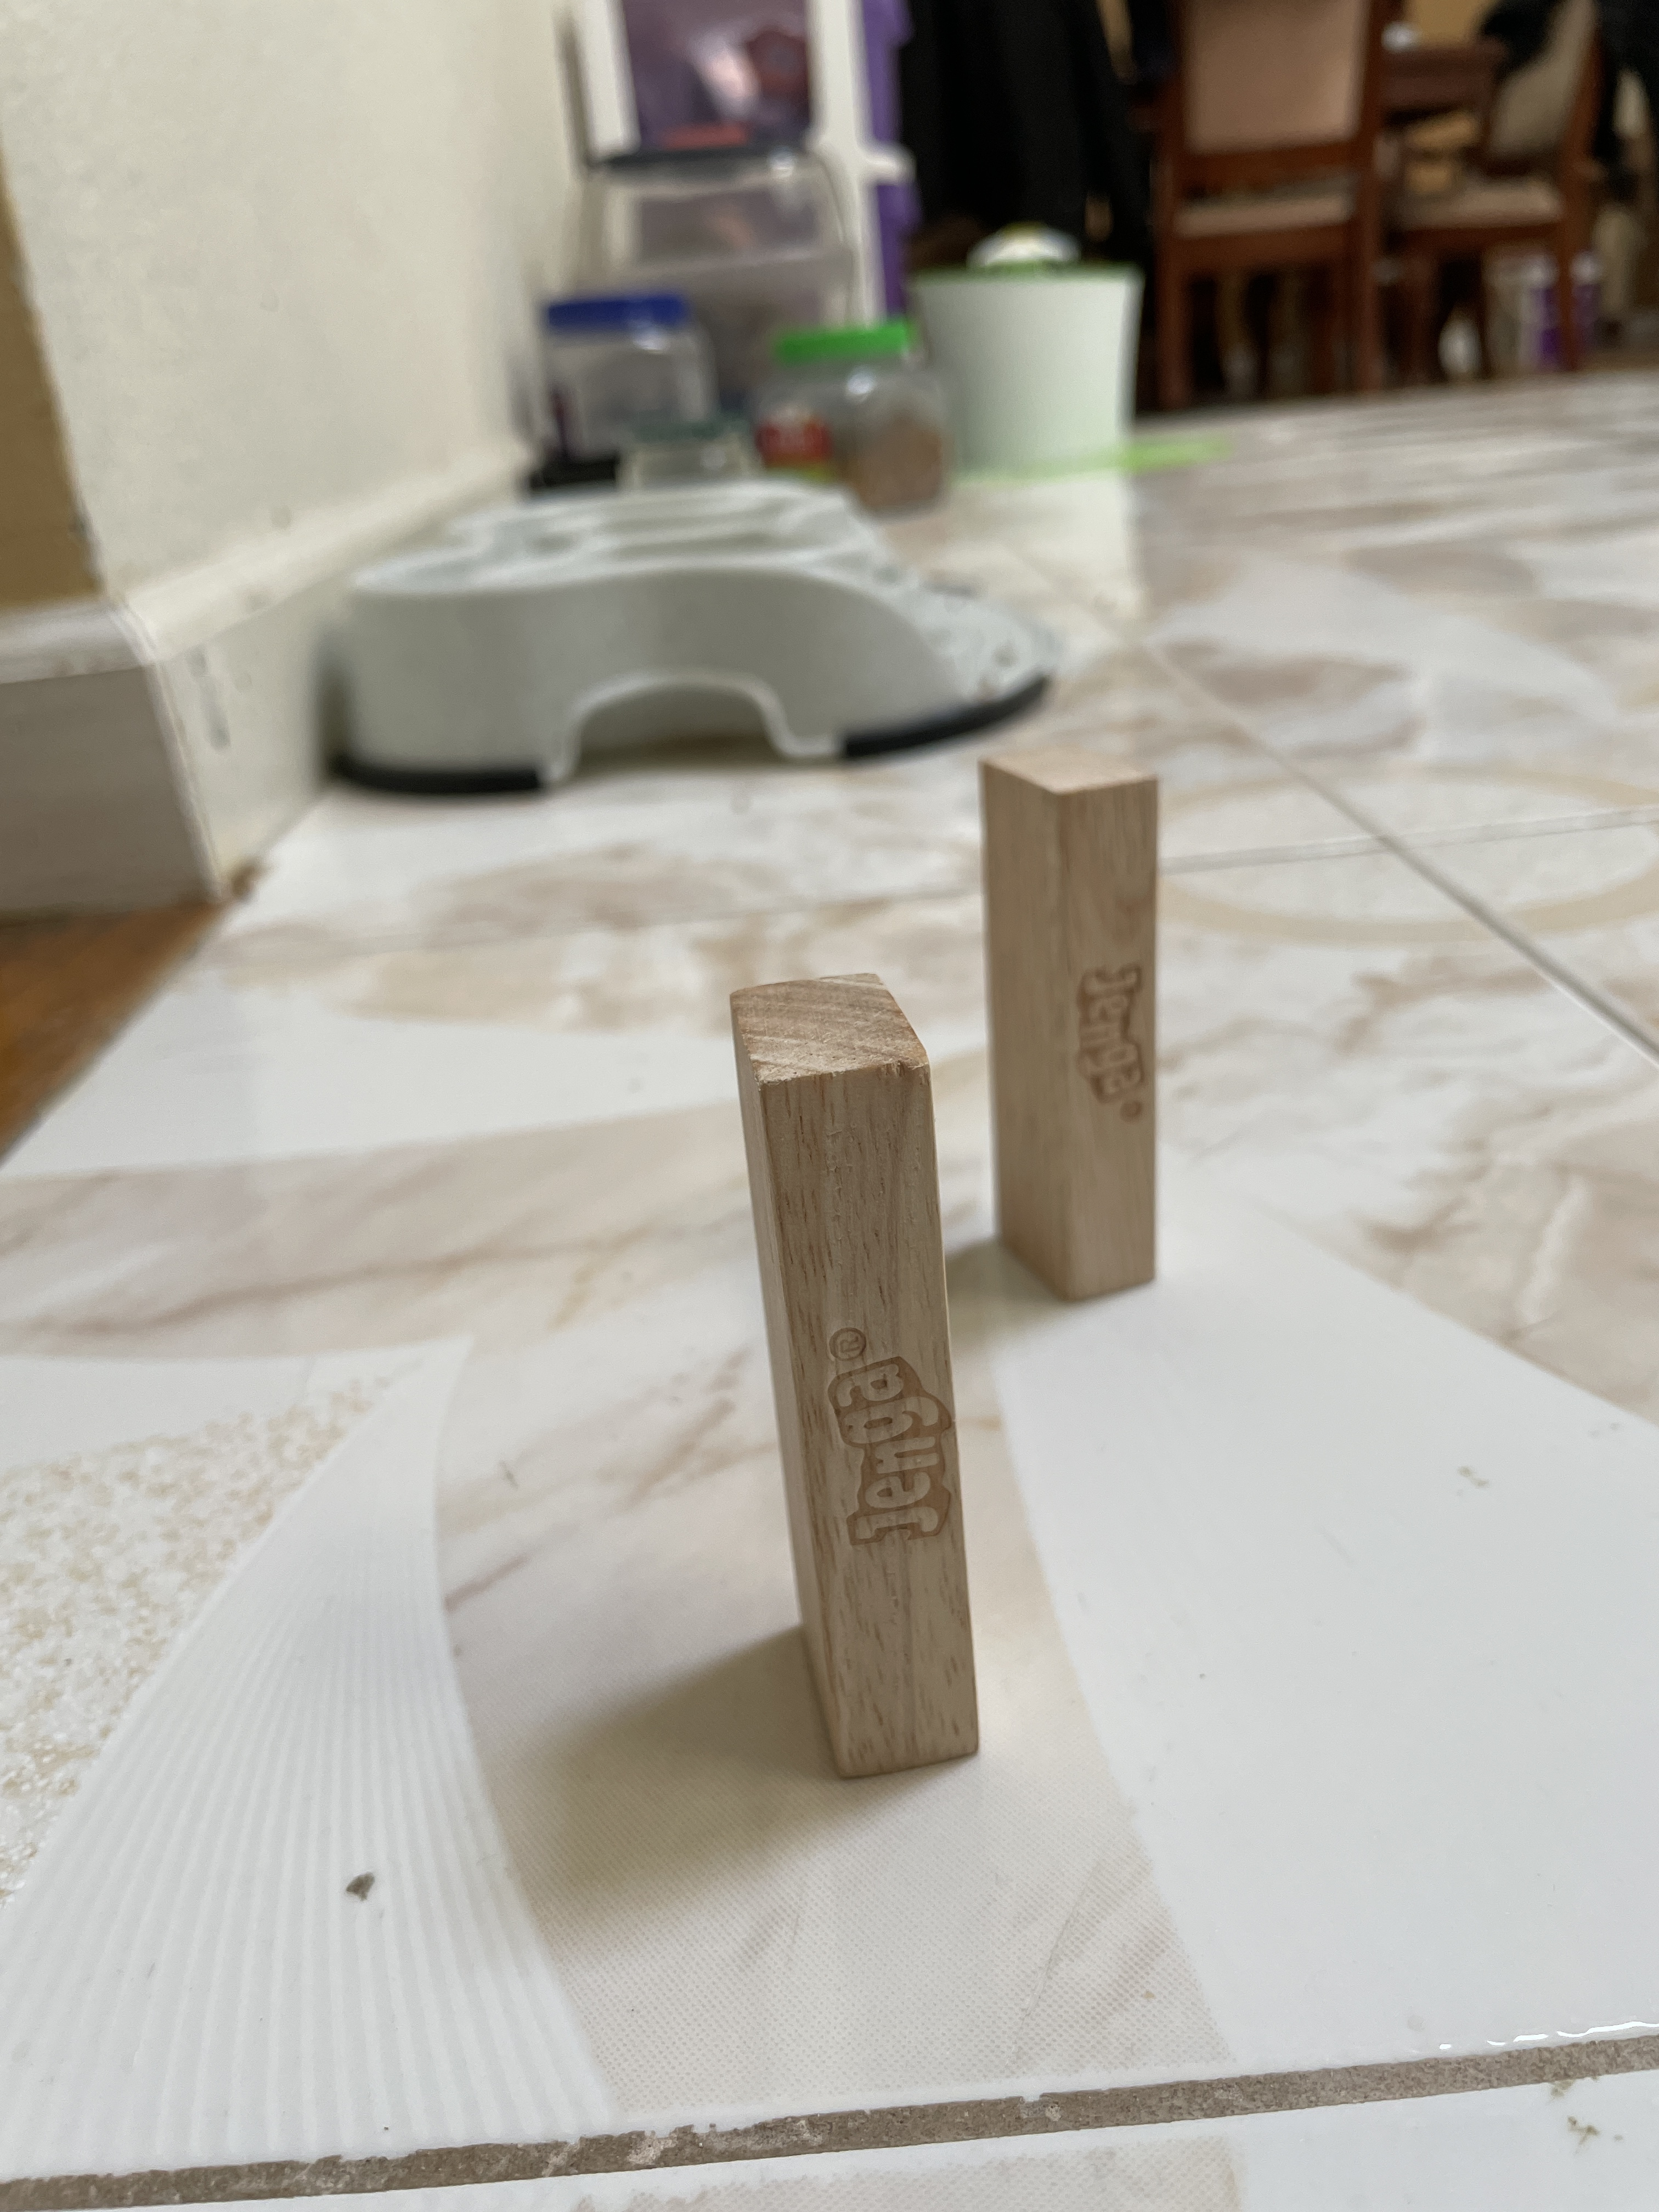jenga: (716, 998, 1011, 1757), (967, 733, 1195, 1289)
